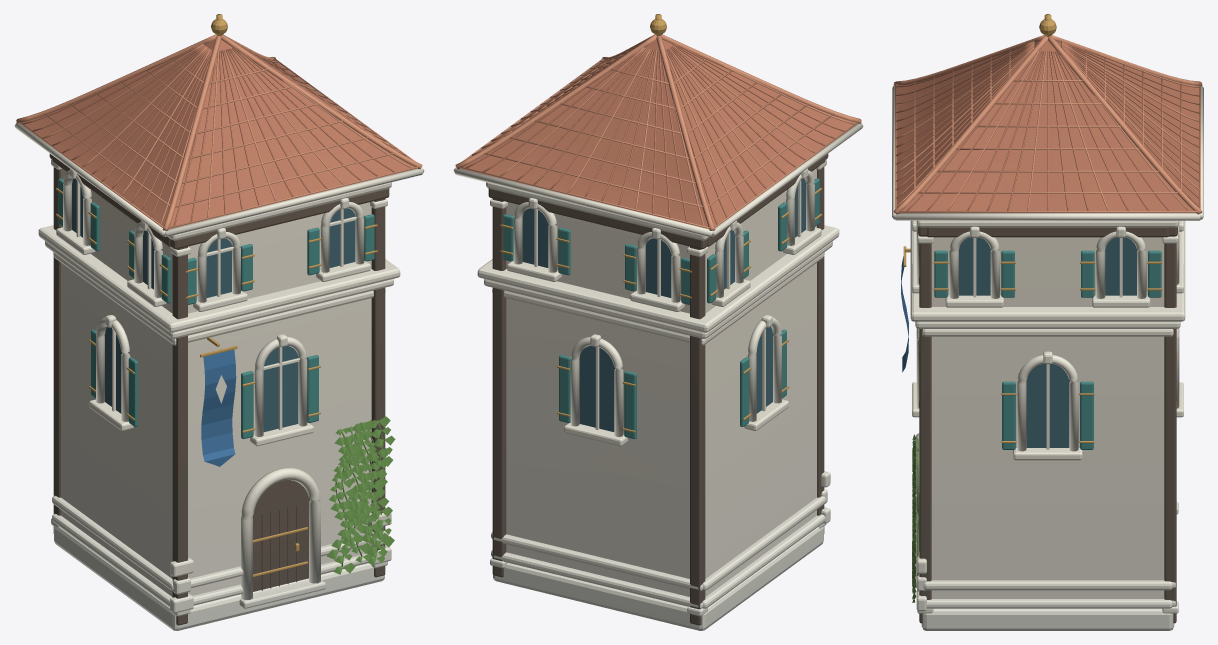
File: tower.glb
3 views of the same model, side by side, from view 1: azimuth 30°, elevation 25°; view 2: azimuth 150°, elevation 25°; view 3: azimuth 270°, elevation 25° (orthographic). The views are drawn at different scales.
Visible parts, largest first — view 1: Warm limewashed plaster, Carved pale limestone, Warm terracotta roof tiles, Weathered walnut beams, Sunlit clay tile edges, Garden foliage, Dusky blue window, Painted teal shutters, Avelune blue linen, Warm brass accents; view 2: Warm limewashed plaster, Carved pale limestone, Warm terracotta roof tiles, Weathered walnut beams, Sunlit clay tile edges, Dusky blue window, Painted teal shutters, Warm brass accents; view 3: Warm limewashed plaster, Warm terracotta roof tiles, Carved pale limestone, Sunlit clay tile edges, Weathered walnut beams, Dusky blue window, Painted teal shutters, Warm brass accents, Garden foliage.
Part boxes in pixels (x1,y1,x2,y2): Warm limewashed plaster: [61, 169, 371, 596]; Carved pale limestone: [14, 62, 424, 630]; Warm terracotta roof tiles: [21, 39, 417, 228]; Weathered walnut beams: [49, 154, 389, 625]; Sunlit clay tile edges: [16, 34, 422, 230]; Garden foliage: [326, 416, 395, 574]; Dusky blue window: [72, 179, 355, 431]; Painted teal shutters: [58, 178, 374, 439]; Avelune blue linen: [201, 349, 236, 466]; Warm brass accents: [56, 14, 377, 577]; Warm limewashed plaster: [506, 169, 816, 596]; Carved pale limestone: [453, 62, 863, 630]; Warm terracotta roof tiles: [460, 39, 856, 228]; Weathered walnut beams: [488, 154, 828, 625]; Sunlit clay tile edges: [455, 34, 861, 230]; Dusky blue window: [522, 179, 806, 431]; Painted teal shutters: [503, 178, 819, 439]; Warm brass accents: [500, 14, 821, 432]; Warm limewashed plaster: [931, 237, 1164, 598]; Warm terracotta roof tiles: [895, 40, 1200, 212]; Carved pale limestone: [892, 86, 1203, 630]; Sunlit clay tile edges: [893, 35, 1202, 214]; Weathered walnut beams: [918, 227, 1177, 623]; Dusky blue window: [959, 237, 1137, 447]; Painted teal shutters: [934, 250, 1161, 449]; Warm brass accents: [903, 14, 1176, 443]; Garden foliage: [912, 434, 918, 602].
Bounding box in the file's own units: 4.56 × 9.1 × 4.56.
